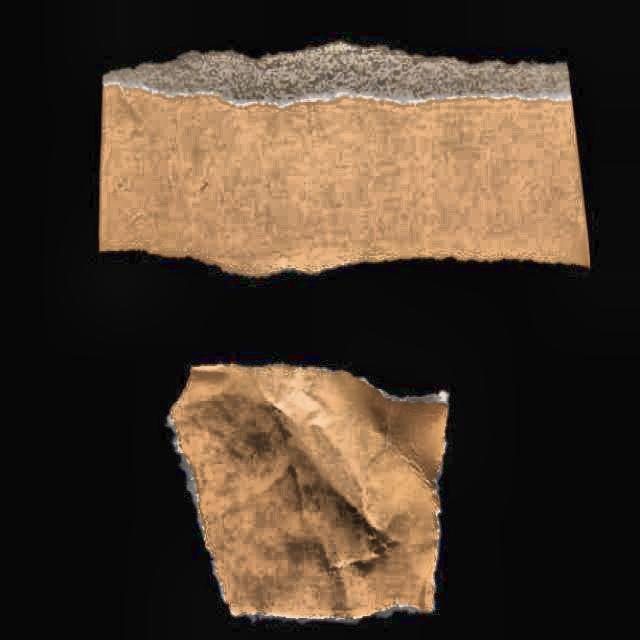cardboard: (99, 43, 590, 278), (168, 366, 446, 626)
